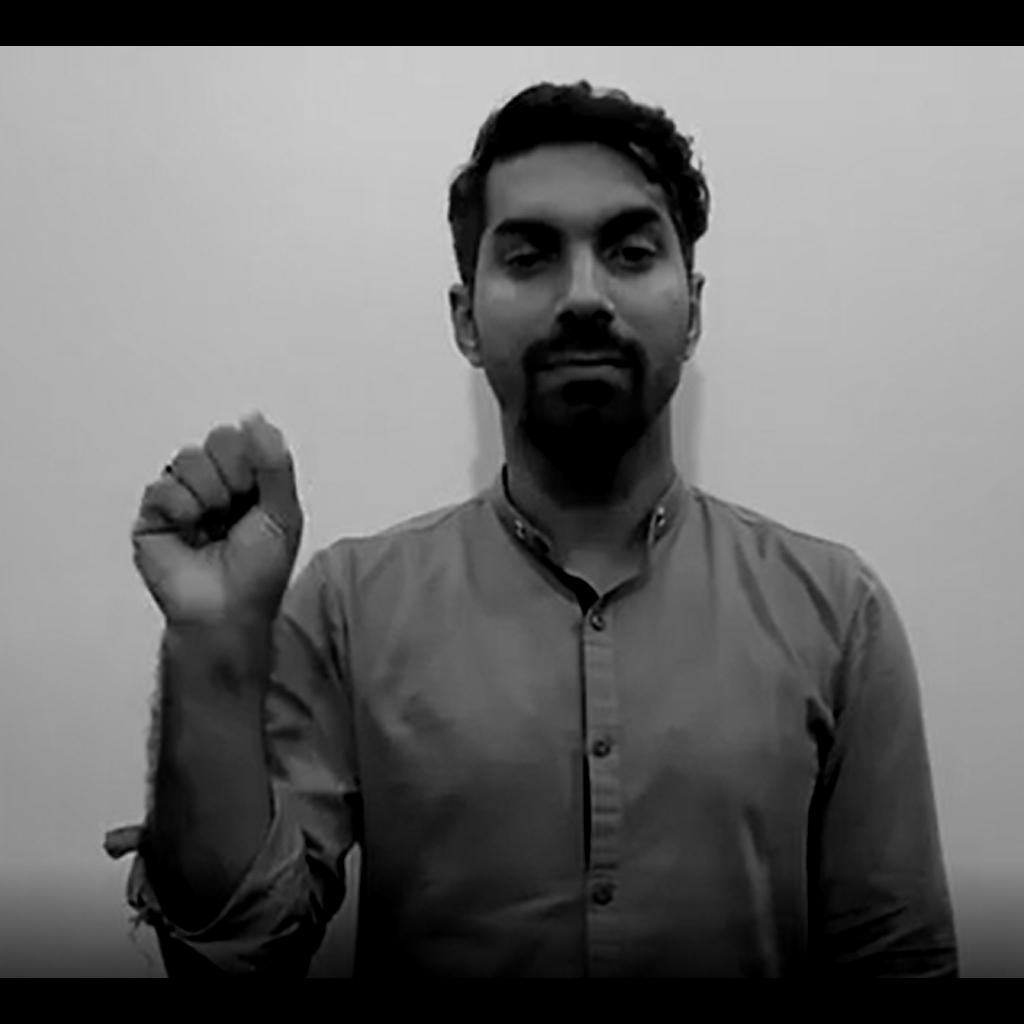yes: (132, 414, 304, 622)
